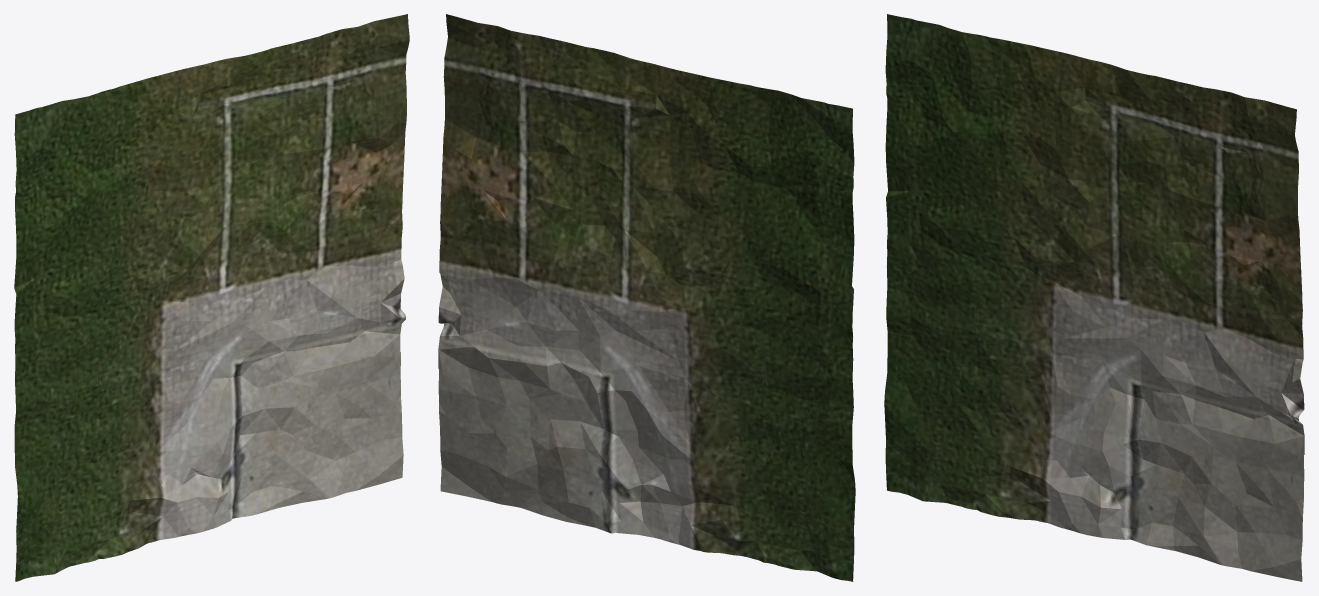
File: tile_4_8_20_tex.obj
The picture shows the model from 3 angles, left to right: view 1: azimuth 30°, elevation 25°; view 2: azimuth 150°, elevation 25°; view 3: azimuth 330°, elevation 25°; orthographic projection.
Parts seen in each view (by area): view 1: obj_0; view 2: obj_0; view 3: obj_0.
Boxes of the visible parts, x1,y1,x2,y2 form: obj_0: (14,14,409,581); obj_0: (438,14,855,581); obj_0: (884,14,1304,581).
Bounding box in the file's own units: 10.02 × 11.27 × 0.7036.
Materials: 1 (1 with a texture image).
